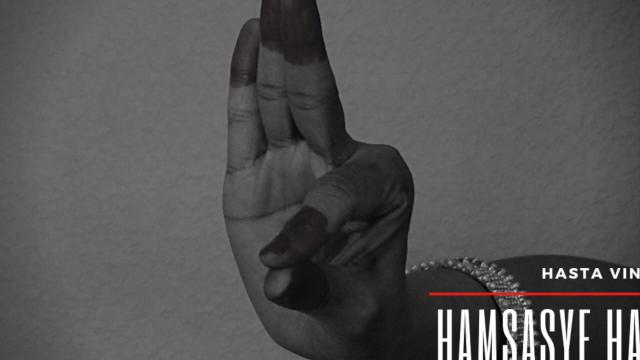hansaasya: (200, 0, 448, 354)
